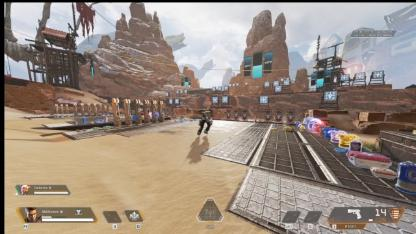Target: (196, 108, 212, 136)
